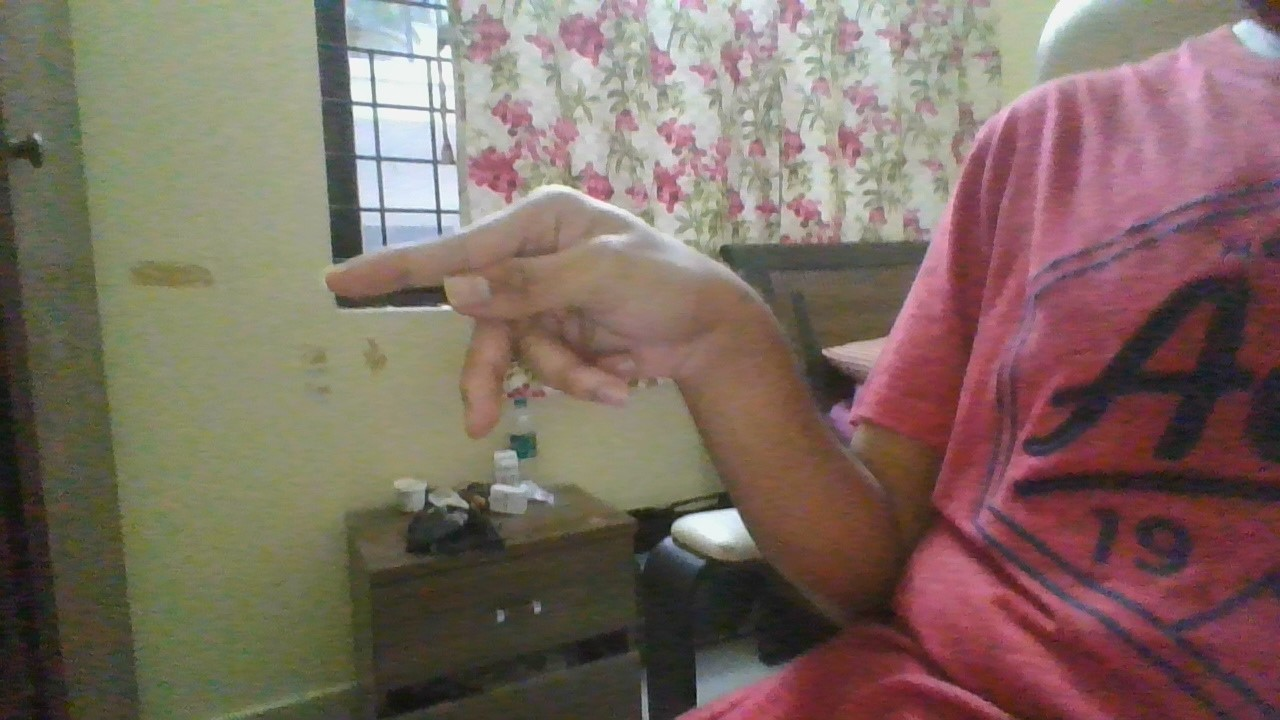p: (323, 181, 725, 444)
